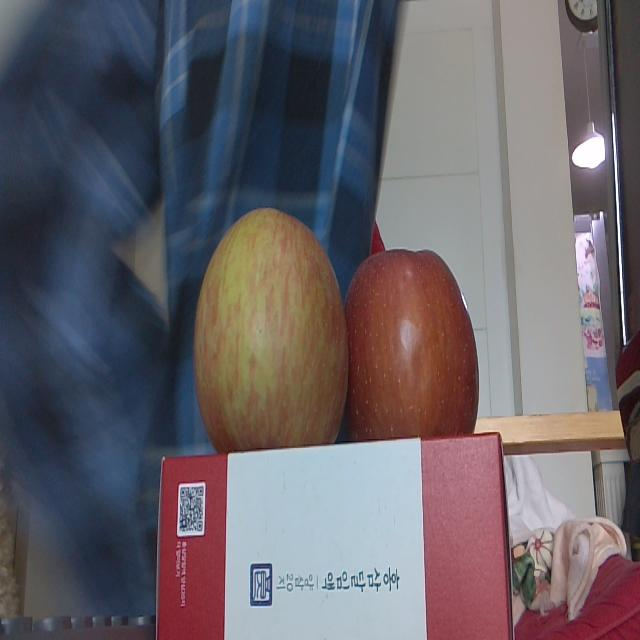apple: (195, 210, 346, 444), (348, 246, 480, 436)
